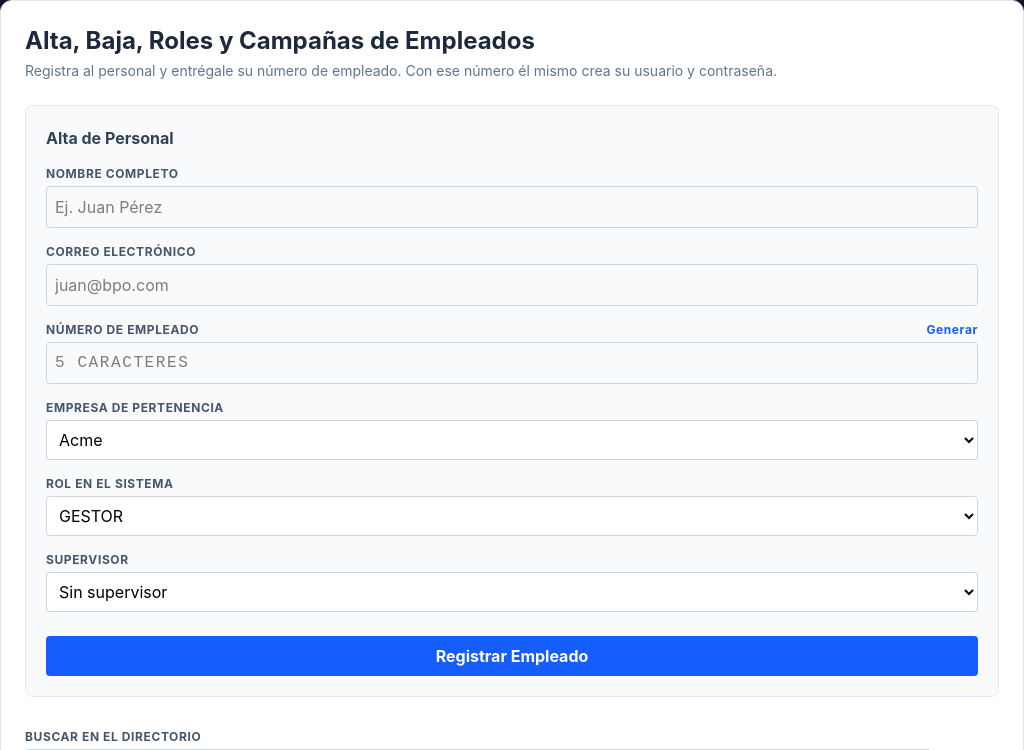
it: EmpleadosManager: alta de personal › registra al empleado y avisa con el numero asignado
In the field with placeholder "Ej. Juan Pérez": (512, 207) [46,186,978,228], type "Nueva Persona"
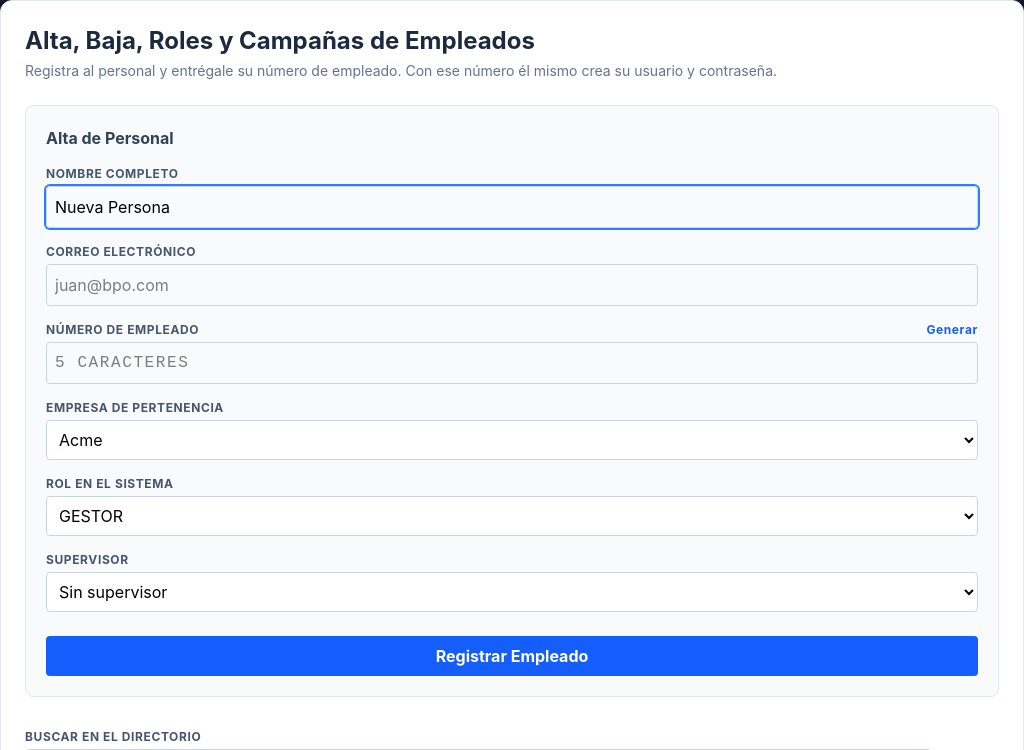
In the field with placeholder "juan@bpo.com": (512, 285) [46,264,978,306], type "nueva@acme.com"
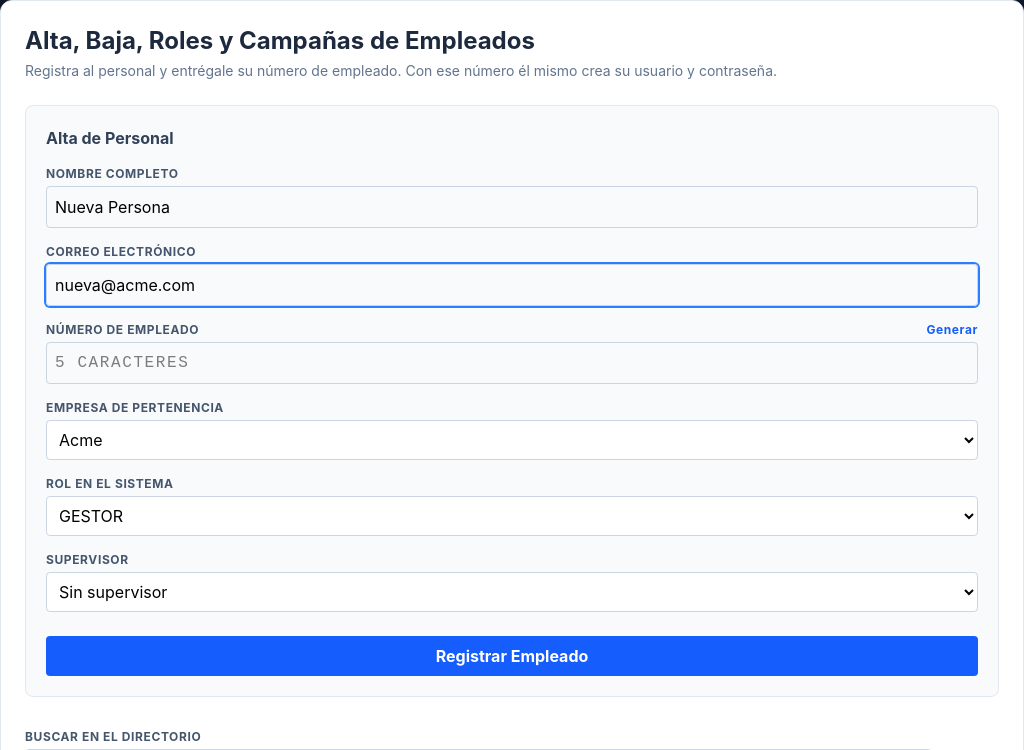
In the field with placeholder "5 Caracteres": (512, 363) [46,342,978,384], type "AB123"
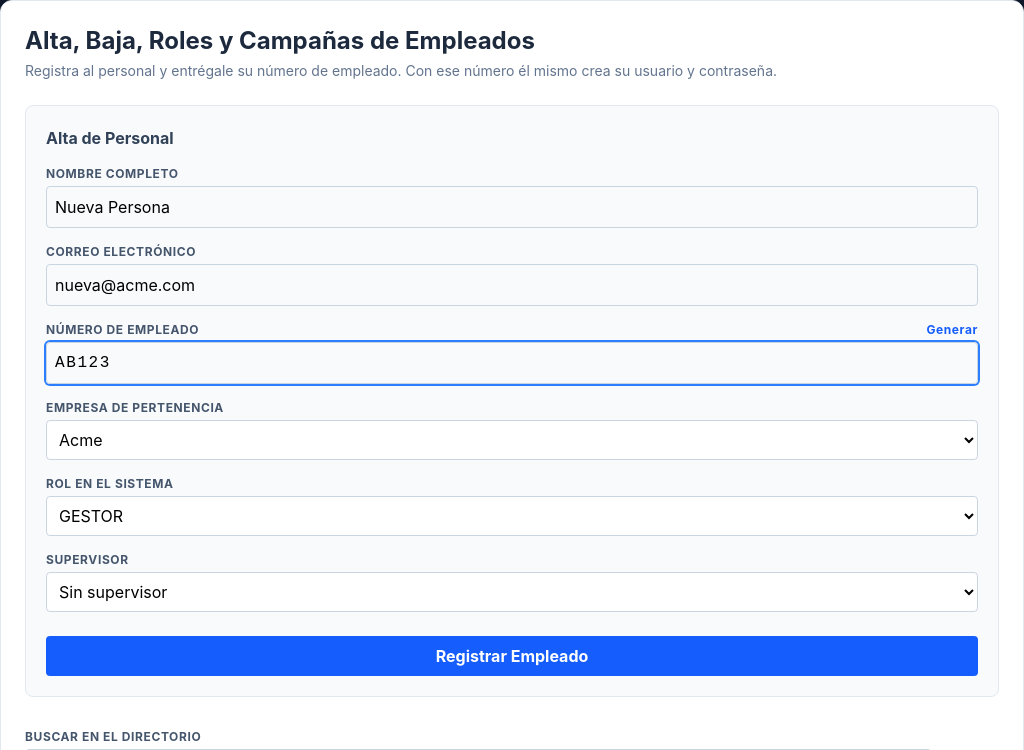
Select "Acme" in the dropdown below "Empresa de Pertenencia": (512, 440) [46,420,978,460]
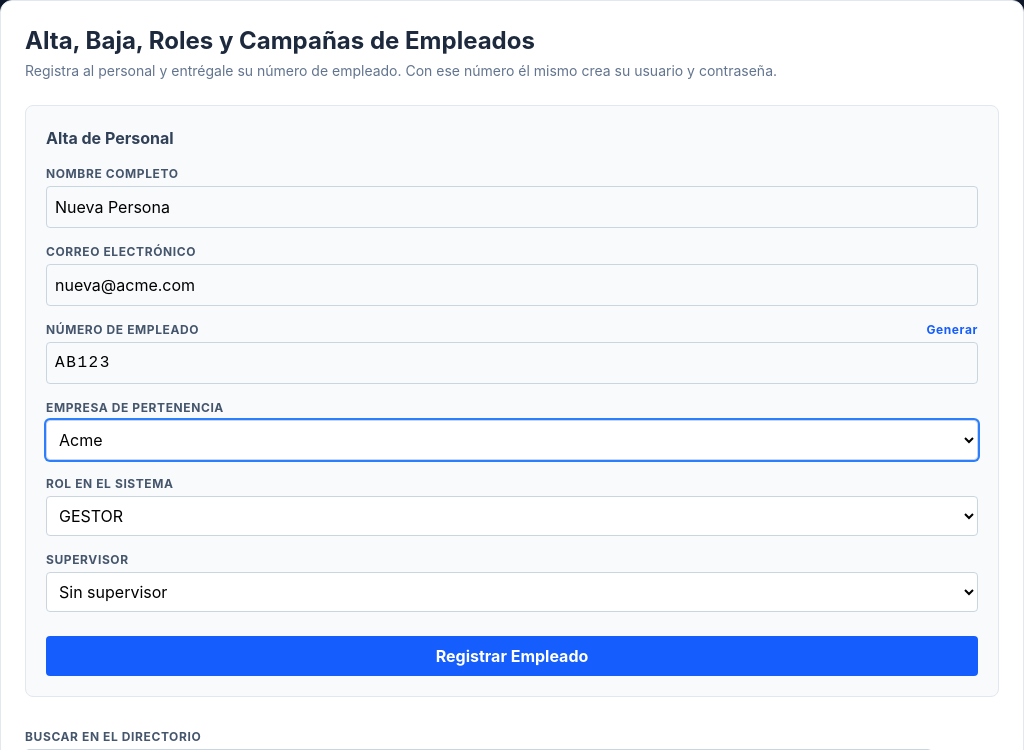
Select "GESTOR" in the dropdown below "Rol en el Sistema": (512, 516) [46,496,978,536]
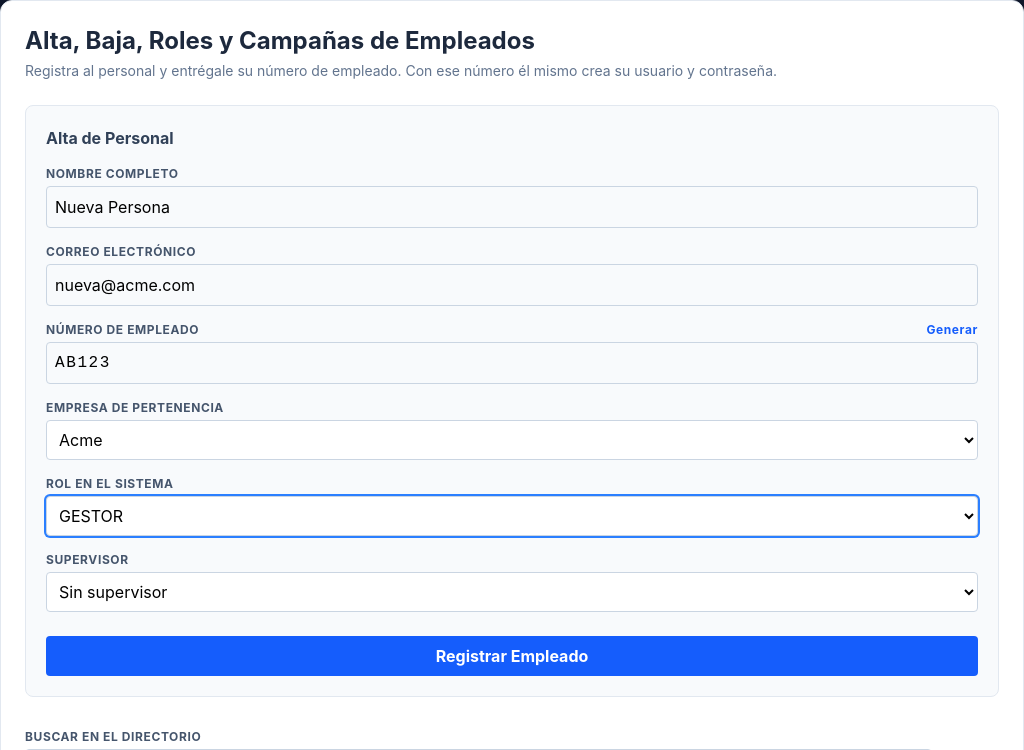
Click the button "Registrar Empleado": click(512, 656) [46,636,978,676]
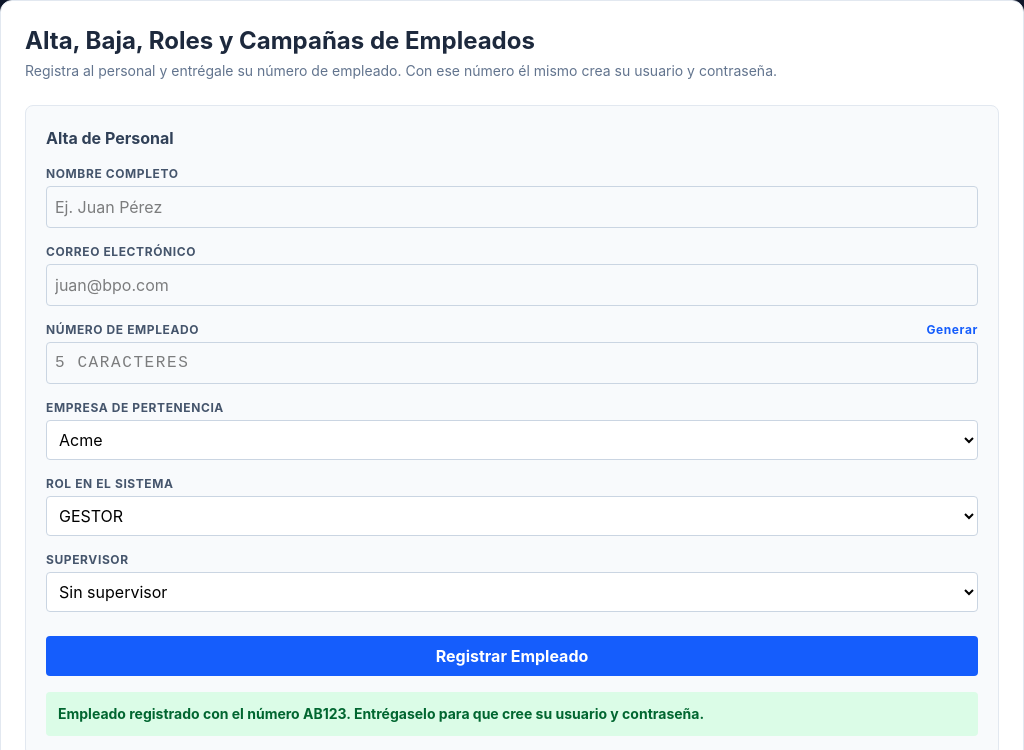
Now the text "Empleado registrado con el número AB123" is shown, box [58,705,704,722]
